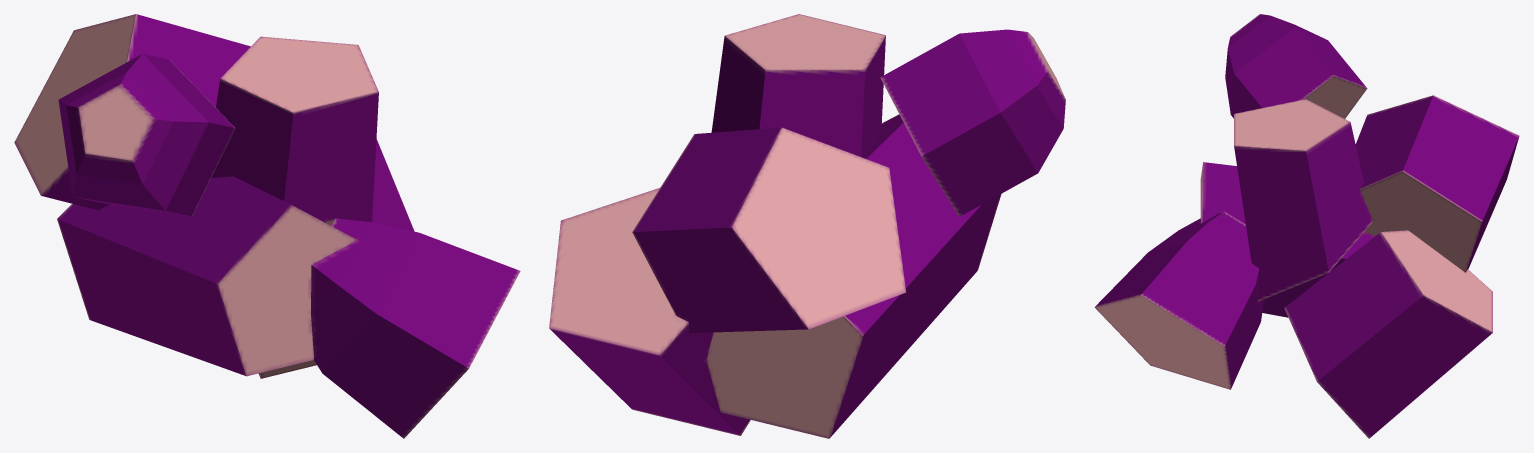
The model's file is cut_eggplant.fbx.
3 renders of one model, left to right at view 1: azimuth 30°, elevation 25°; view 2: azimuth 150°, elevation 25°; view 3: azimuth 270°, elevation 25°, orthographic. The views are drawn at different scales.
Visible parts, largest first — view 1: Cut_Eggplant; view 2: Cut_Eggplant; view 3: Cut_Eggplant.
Boxes of the visible parts, x1,y1,x2,y2 form: Cut_Eggplant: (14,14,520,438); Cut_Eggplant: (549,14,1065,438); Cut_Eggplant: (1094,14,1519,438).
Size of the model in its own units: 112 by 109 by 136.
